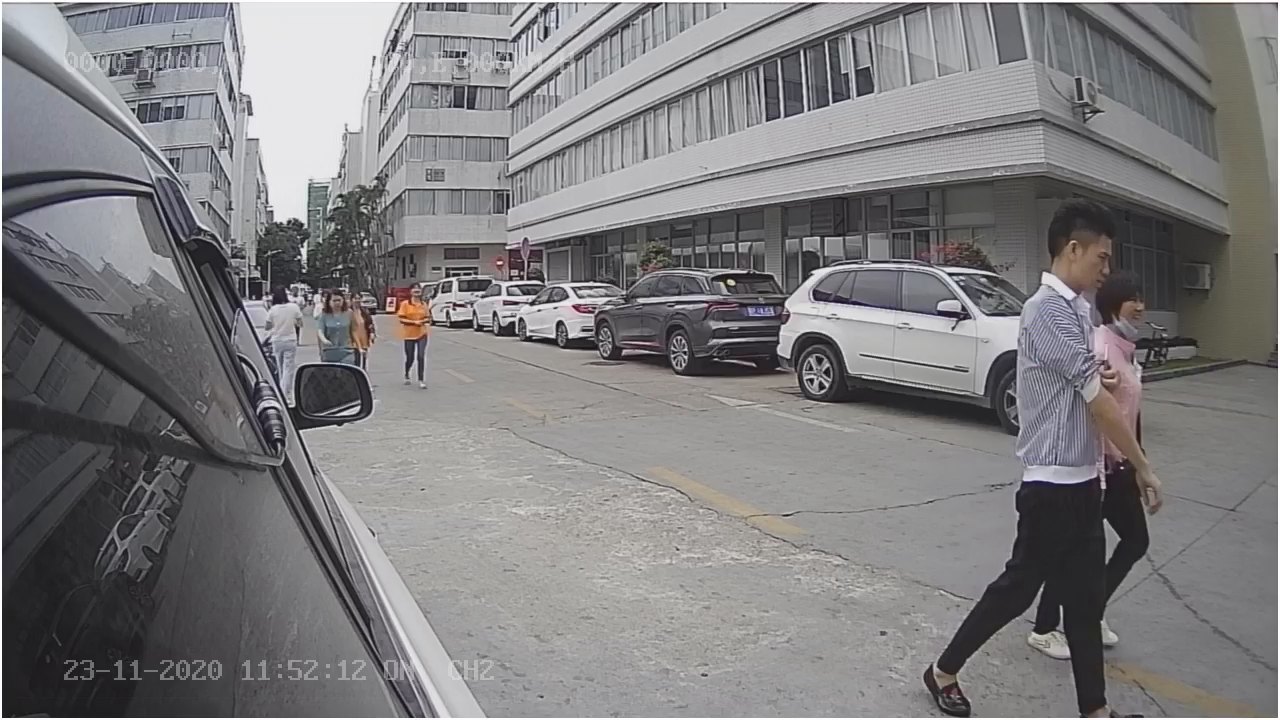person: (1006, 202, 1117, 423)
